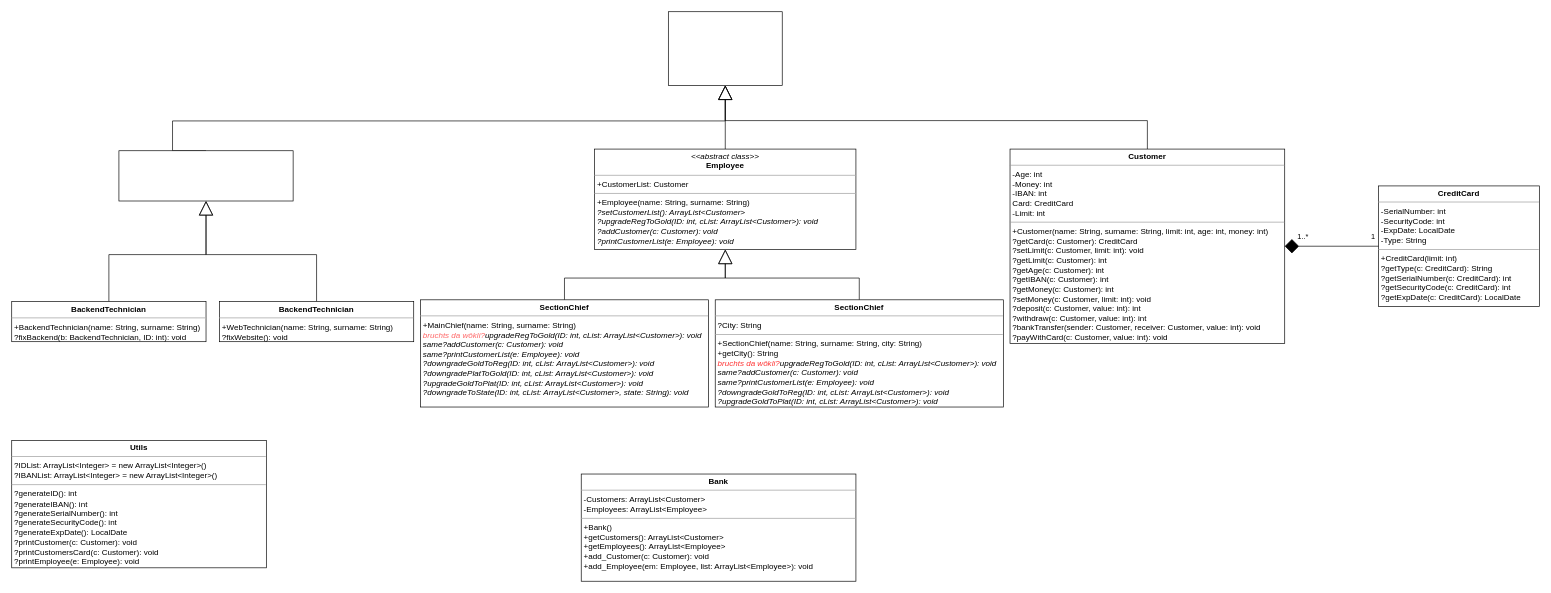
Some shapes in this 1551 by 593 pixel diagram are drawn without their labels. Here are the shapes that lost their labels. From the top down, the box of each, then its label:
(668, 11, 782, 85): <<abstract class>> Person ?Name: String ?Surname: String ?ID: int
(118, 150, 293, 201): <<abstract class>> Technician ?Technician(name: String, surname: String)
